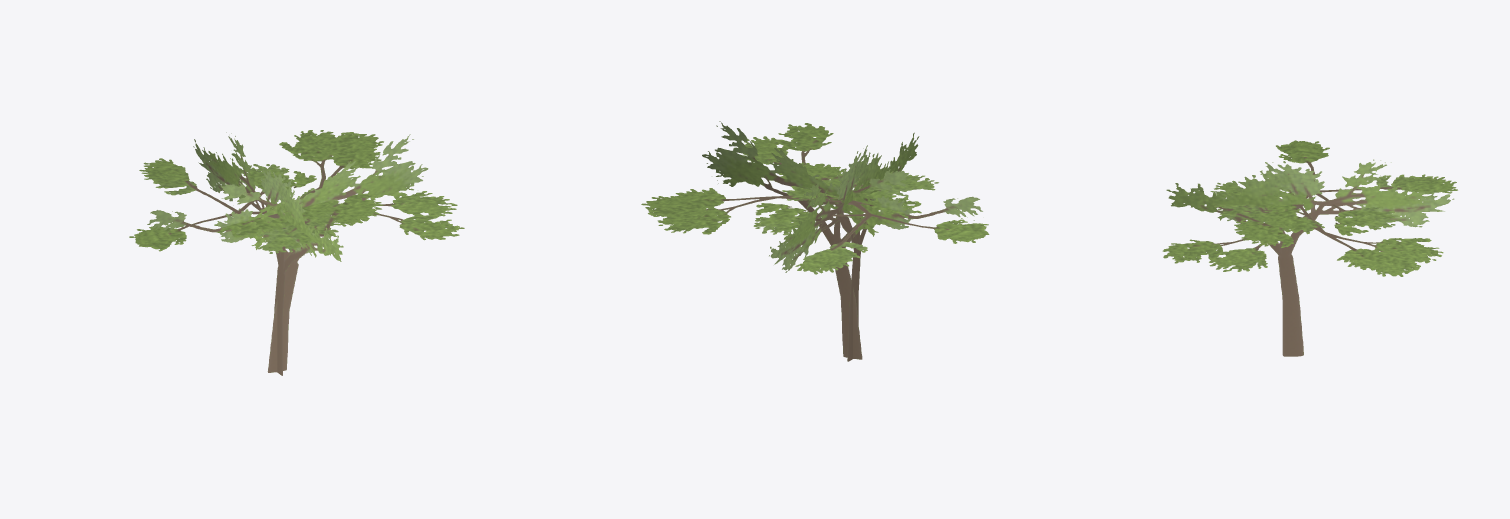
Rendered from acacia_1_far.glb.
3 views of the same model, side by side, from view 1: azimuth 30°, elevation 25°; view 2: azimuth 150°, elevation 25°; view 3: azimuth 270°, elevation 25° (orthographic). The views are drawn at different scales.
Visible parts, largest first — view 1: acacia_1_far; view 2: acacia_1_far; view 3: acacia_1_far.
Boxes of the visible parts, x1,y1,x2,y2 form: acacia_1_far: [129, 130, 464, 375]; acacia_1_far: [641, 121, 989, 361]; acacia_1_far: [1162, 140, 1457, 356].
Size of the model in its own units: 10.67 by 10.67 by 10.67.
Materials: 1 (1 with a texture image).
